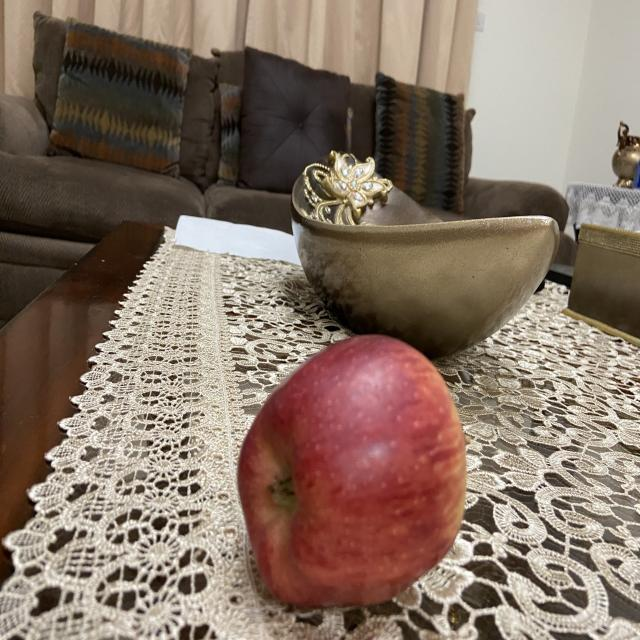apple: (238, 331, 471, 614)
